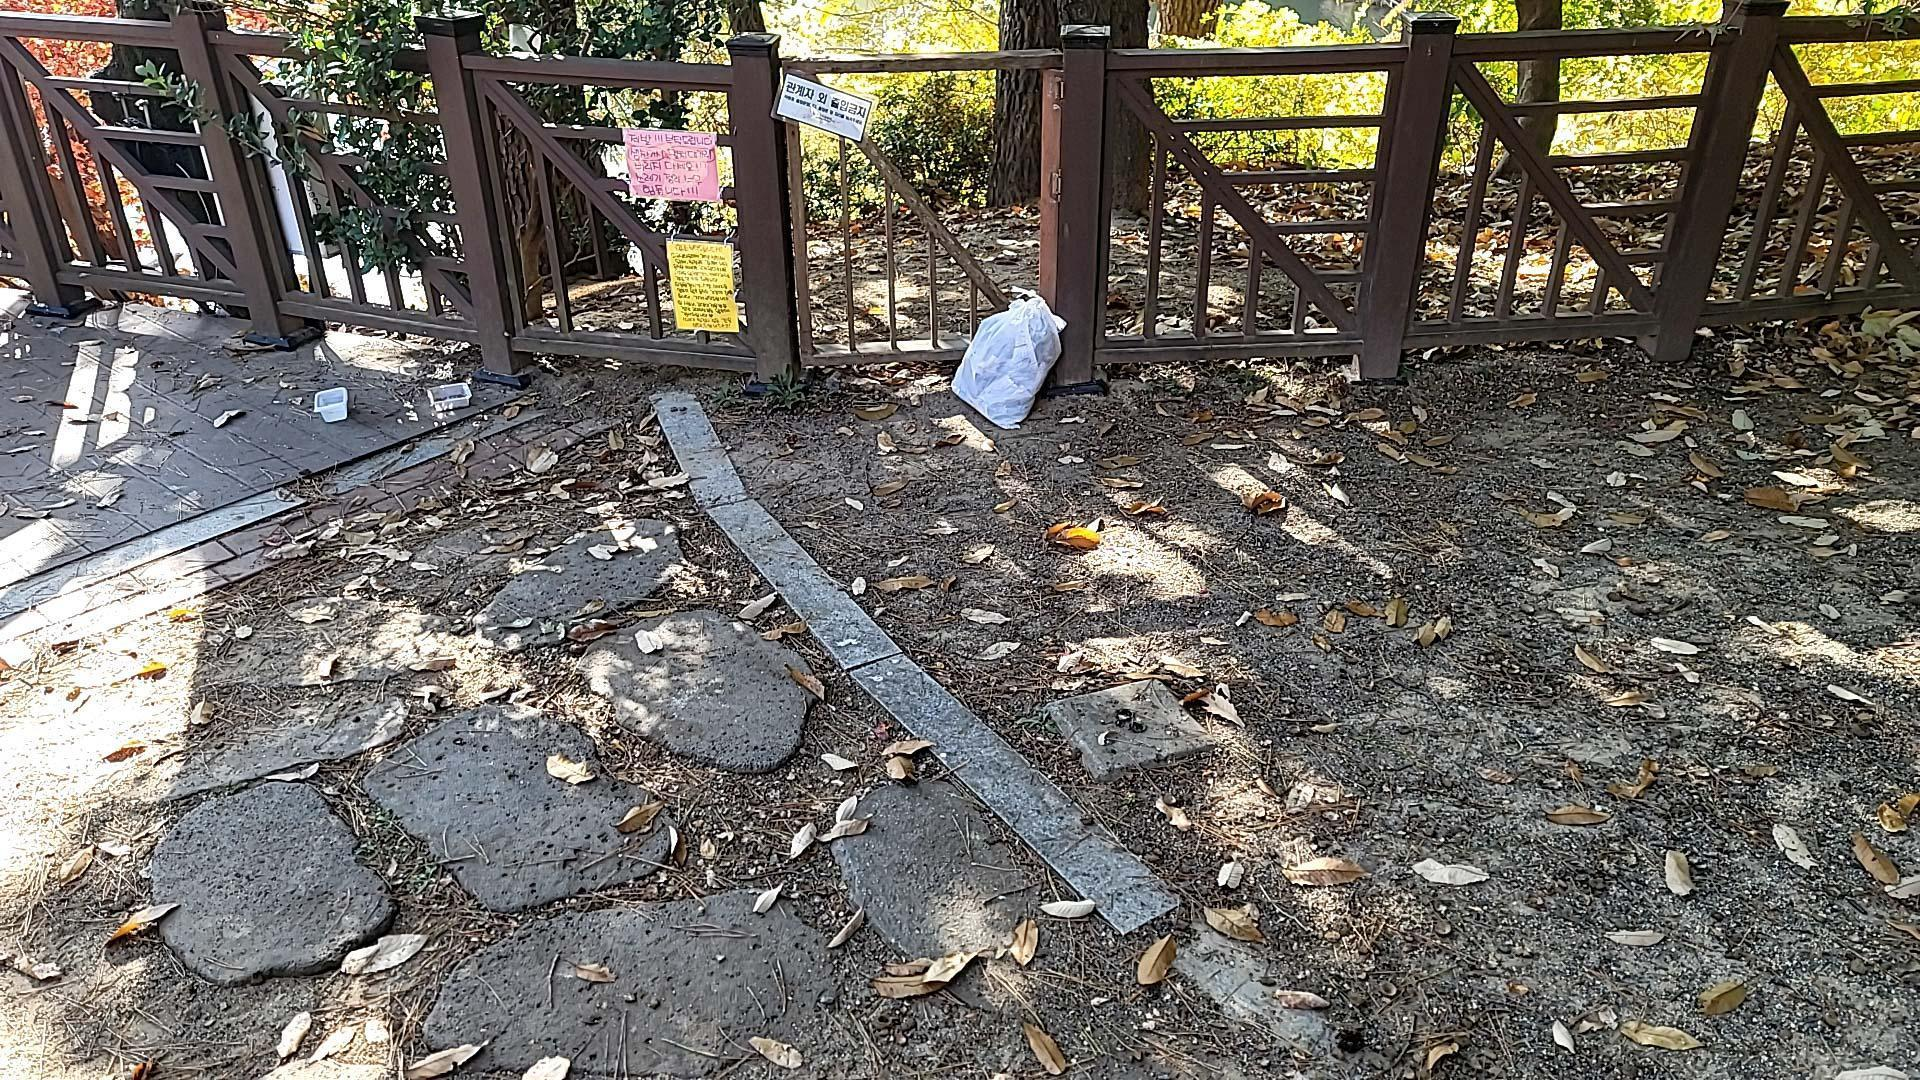white_bag: (936, 277, 1071, 438)
